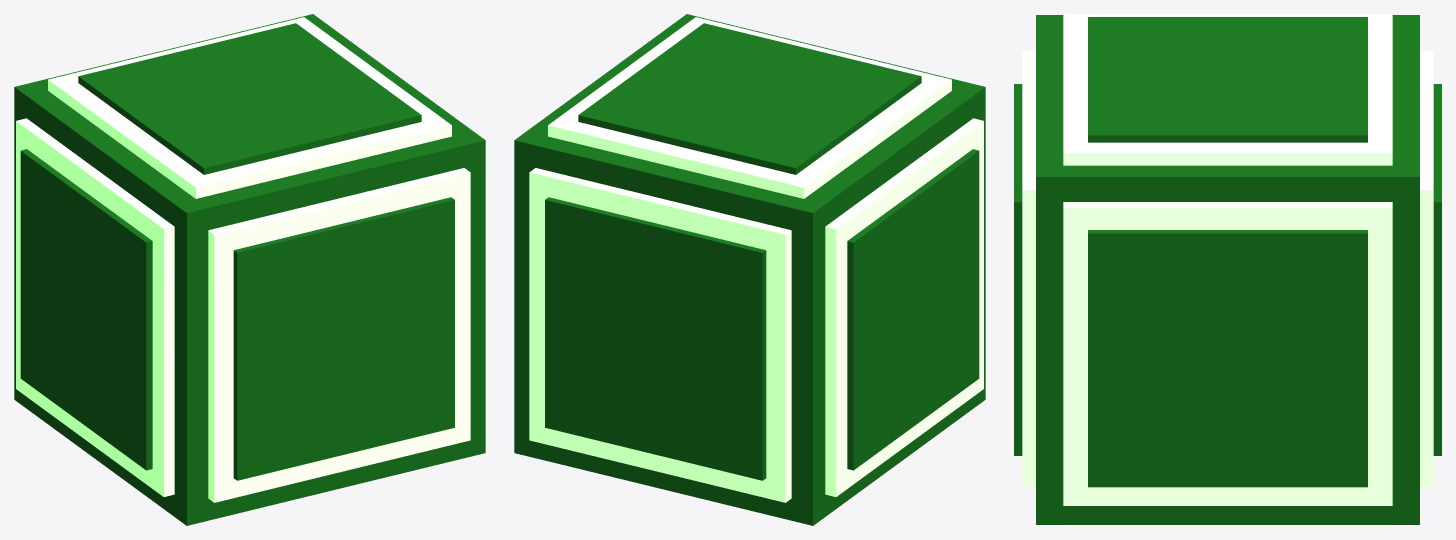
The model's file is green_cube.glb.
3 views of the same model, side by side, from view 1: azimuth 30°, elevation 25°; view 2: azimuth 150°, elevation 25°; view 3: azimuth 270°, elevation 25° (orthographic). The views are drawn at different scales.
Parts seen in each view (by area): view 1: Cube.005, Cube, Cube.006, Cube.004, Cube.001, Cube.002, Cube.003; view 2: Cube.005, Cube, Cube.006, Cube.004, Cube.001, Cube.002, Cube.003; view 3: Cube.006, Cube, Cube.004, Cube.002, Cube.003, Cube.001, Cube.005.
Boxes of the visible parts, left/top/right/bottom form: Cube.005: left=233, top=197, right=454, bottom=480; Cube: left=14, top=14, right=485, bottom=525; Cube.006: left=20, top=149, right=152, bottom=470; Cube.004: left=78, top=23, right=421, bottom=174; Cube.001: left=208, top=168, right=470, bottom=502; Cube.002: left=16, top=118, right=174, bottom=496; Cube.003: left=48, top=17, right=451, bottom=198; Cube.005: left=545, top=197, right=766, bottom=480; Cube: left=514, top=14, right=985, bottom=525; Cube.006: left=847, top=149, right=979, bottom=470; Cube.004: left=578, top=23, right=921, bottom=174; Cube.001: left=529, top=168, right=791, bottom=502; Cube.002: left=825, top=118, right=983, bottom=496; Cube.003: left=548, top=17, right=951, bottom=198; Cube.006: left=1088, top=230, right=1367, bottom=487; Cube: left=1036, top=15, right=1419, bottom=524; Cube.004: left=1088, top=17, right=1367, bottom=142; Cube.002: left=1063, top=202, right=1392, bottom=505; Cube.003: left=1063, top=14, right=1392, bottom=525; Cube.001: left=1022, top=51, right=1433, bottom=488; Cube.005: left=1014, top=84, right=1441, bottom=455.
Size of the model in its own units: 0.234 by 0.234 by 0.234.
